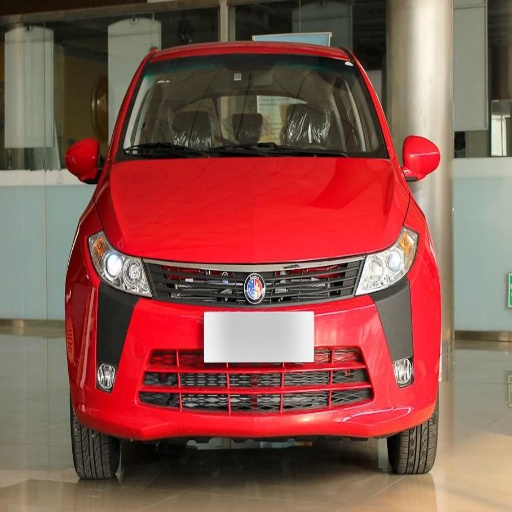front_bumper: (79, 253, 439, 438)
front_right_light: (97, 239, 153, 297)
hood: (97, 159, 407, 262)
left_mirror: (403, 135, 440, 183)
